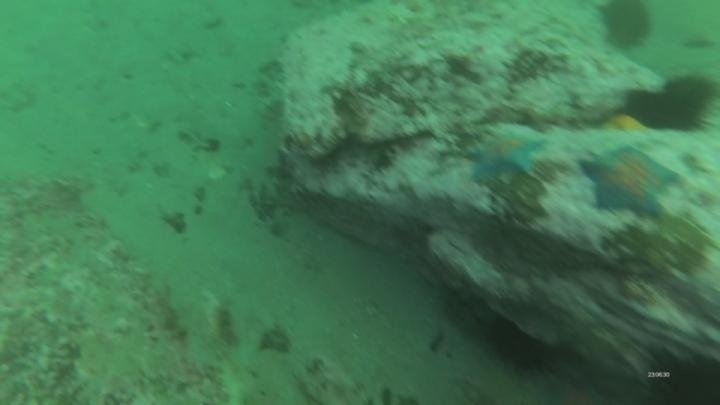echinus: (622, 73, 717, 137), (638, 343, 720, 404), (483, 312, 556, 377), (596, 1, 656, 54)
starfish: (577, 143, 681, 221), (463, 123, 549, 187)
